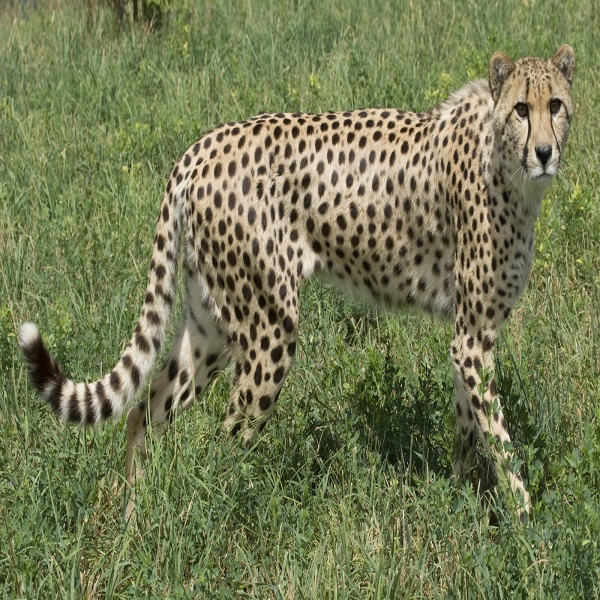Cheetah: (25, 40, 577, 533)
